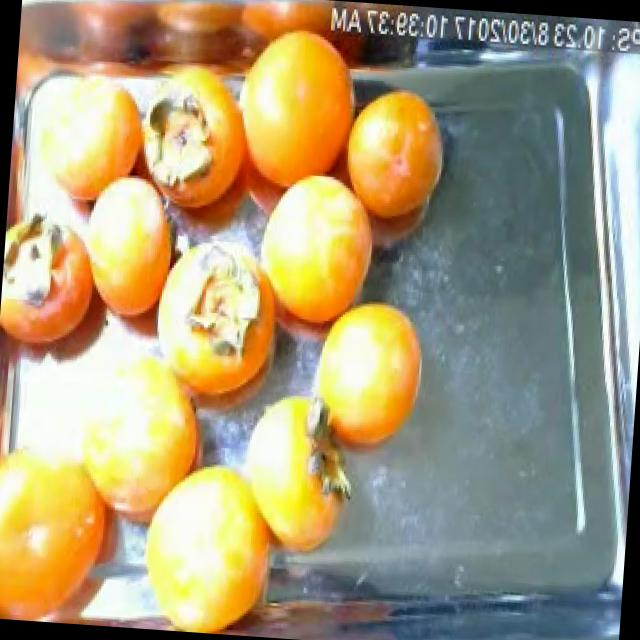Fruit: (9, 53, 168, 241), (301, 280, 438, 464), (330, 73, 461, 237)
